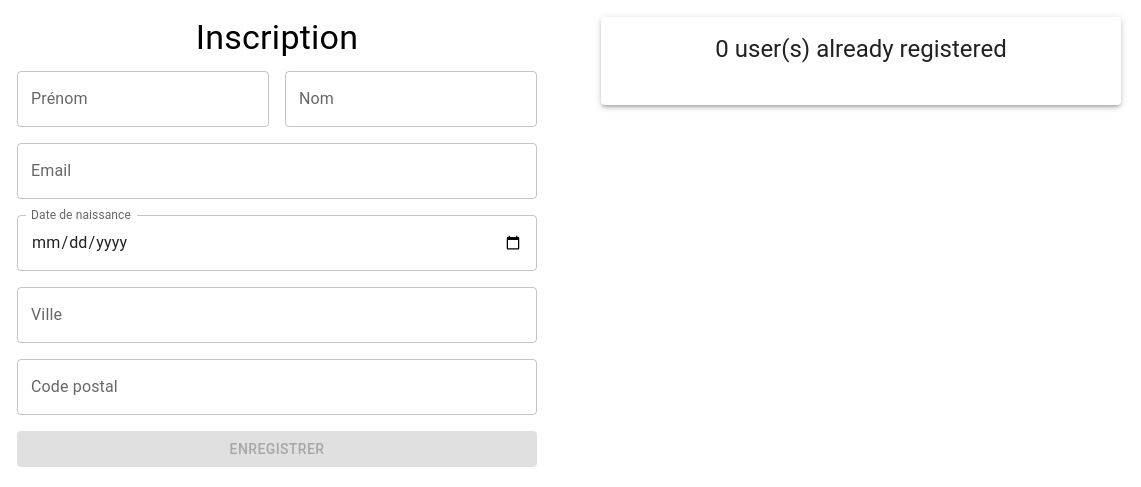
Test: ajoute un nouvel utilisateur à la liste
This screenshot has width=1141, height=487.
// Remplir le formulaire avec des données valides
Type "Zack" into the field with placeholder "First name" at (143, 99), box [17,71,269,127]
Type "Fair" into the field with placeholder "Last name" at (411, 99), box [285,71,537,127]
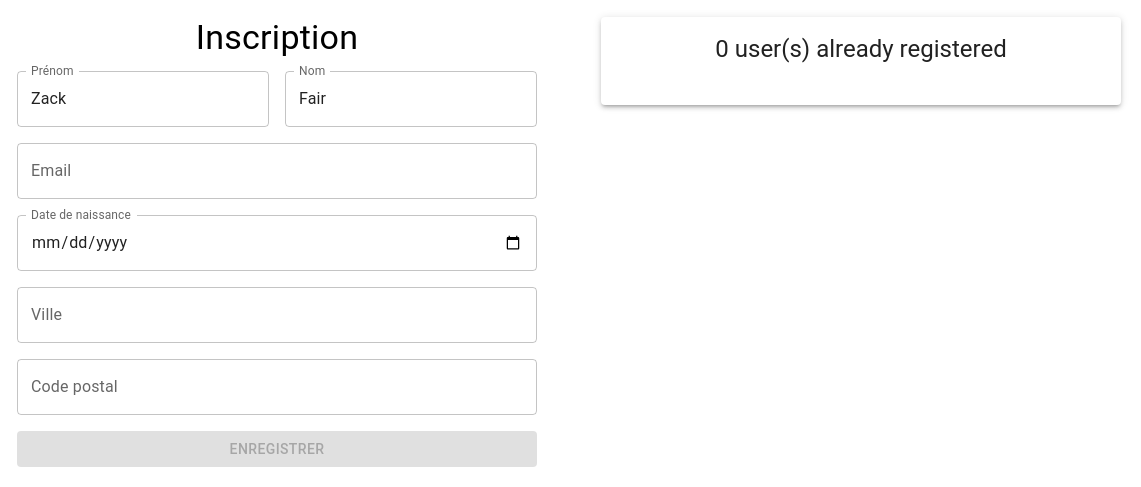
Type "zack.fair@gmail.com" into the field with placeholder "Email" at (277, 171), box [17,143,537,199]
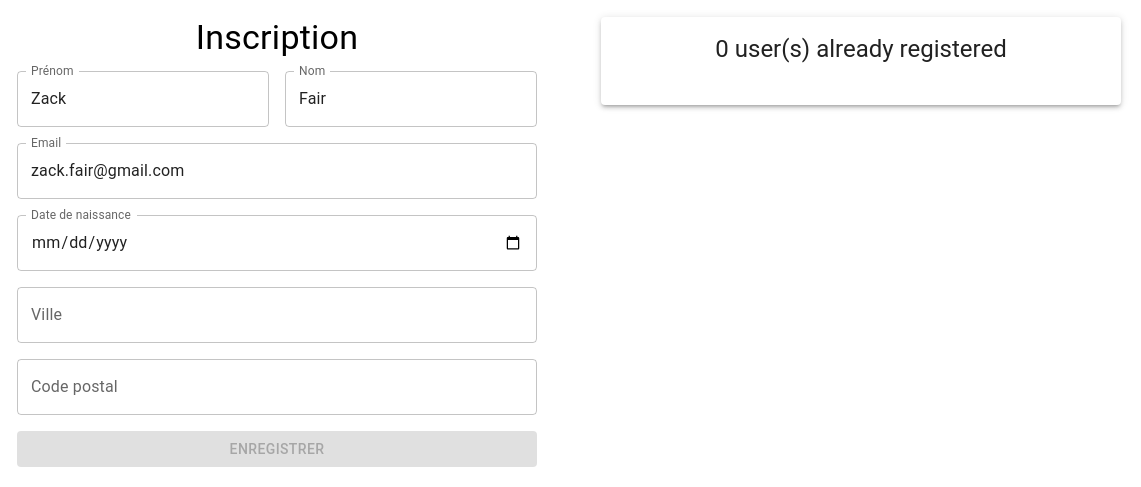
Type "2000-01-01" into the date field with placeholder "Birthday" at (277, 243), box [17,215,537,271]
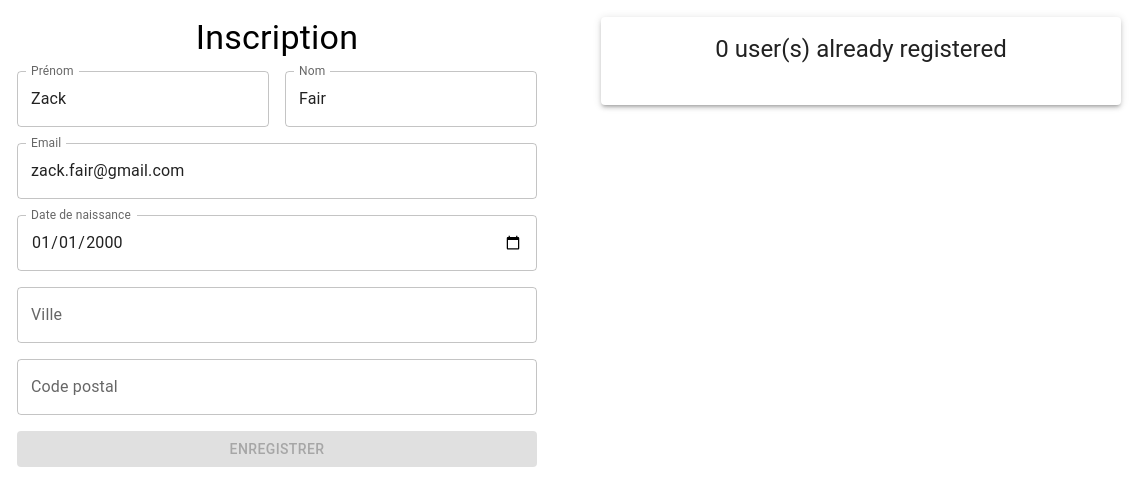
Type "Paris" into the field with placeholder "City" at (277, 315), box [17,287,537,343]
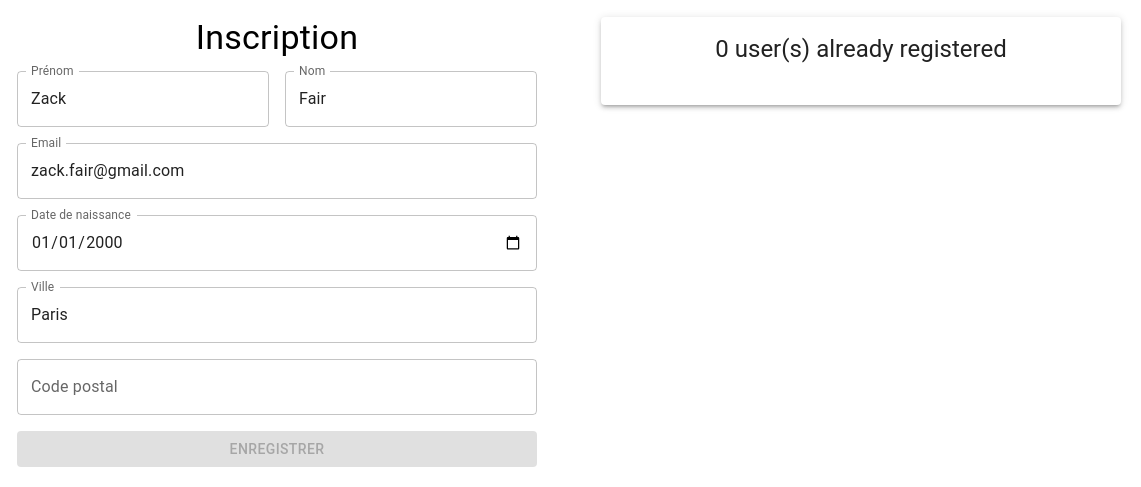
Type "75000" into the field with placeholder "Postal Code" at (277, 387), box [17,359,537,415]
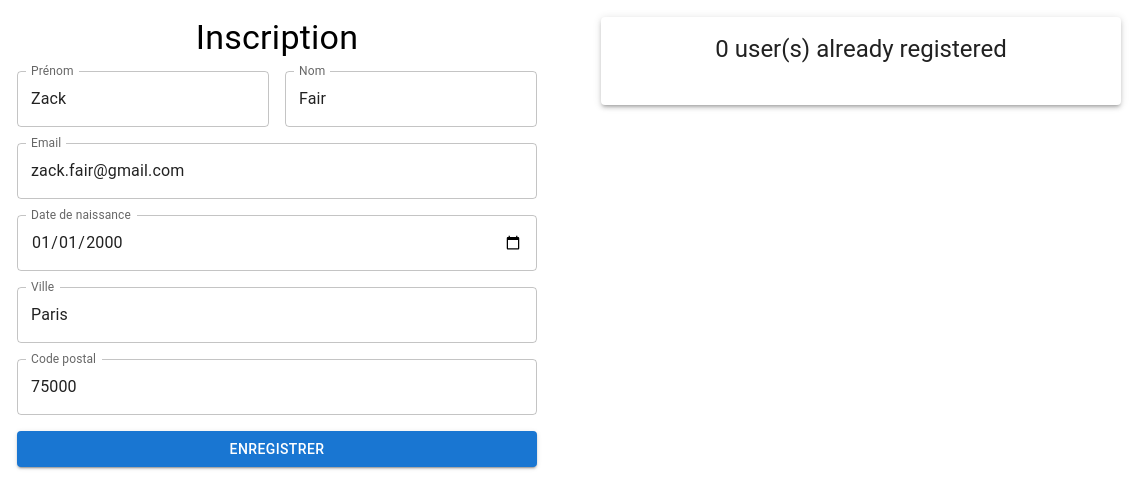
// Soumettre le formulaire
Click the button "Enregistrer" at (277, 449), box [17,431,537,467]
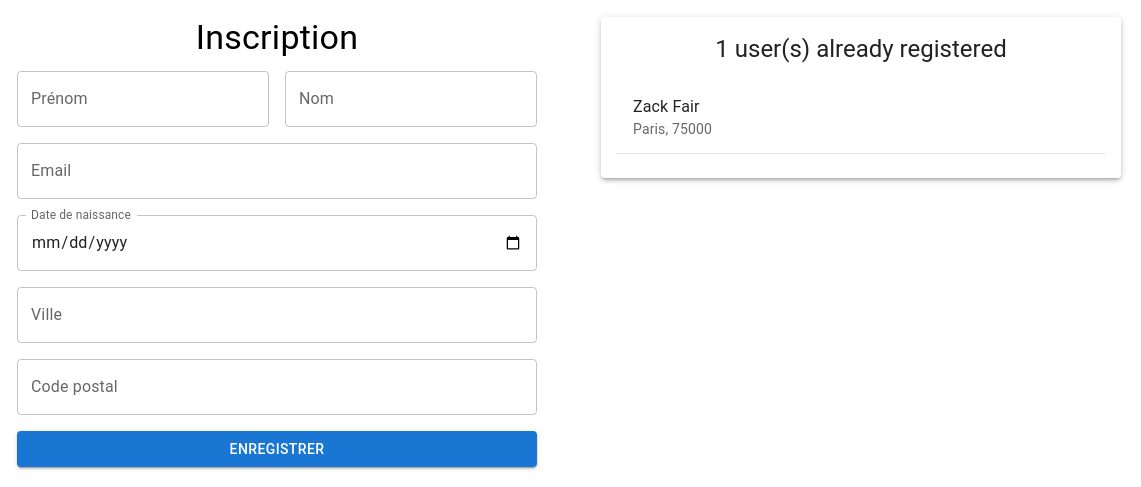
Check: the text "Zack Fair" is shown, box [633,97,700,116]
Check: the text "Paris, 75000" is shown, box [633,121,712,137]
